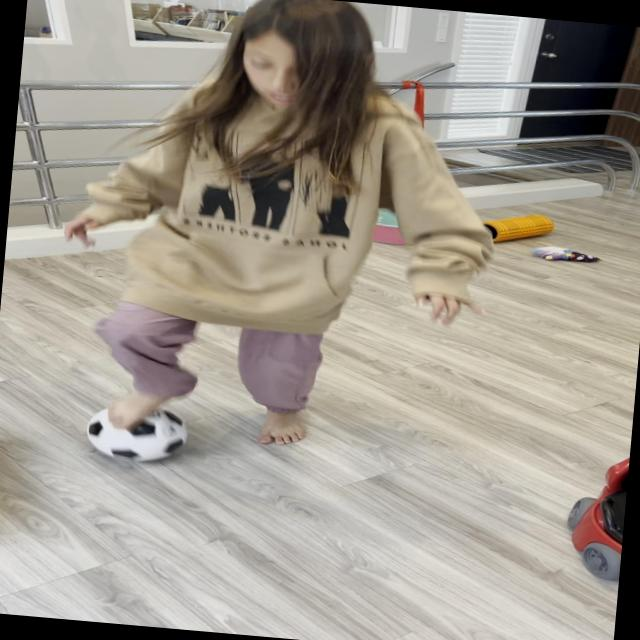Soccer Ball: (83, 399, 190, 464)
